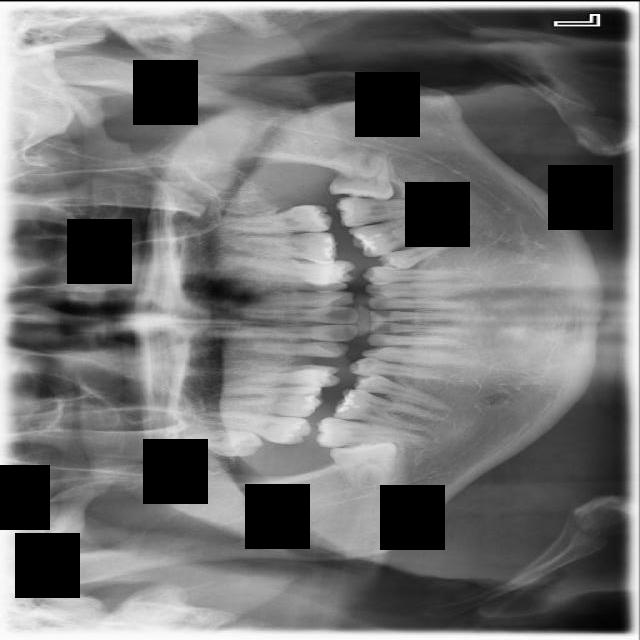3M ESPE Implant: (173, 425, 265, 459)
52: (348, 219, 410, 260), (331, 384, 386, 425)
73: (582, 36, 598, 40)
BioHorizons Implant: (191, 203, 333, 237)
Biomet 3i Implant: (328, 149, 394, 201)
Blue Sky Bio Implant: (335, 194, 449, 227)
Caries: (192, 407, 313, 448)
Implant: (315, 411, 425, 448)
Keystone Dental Implant: (328, 439, 400, 491)
